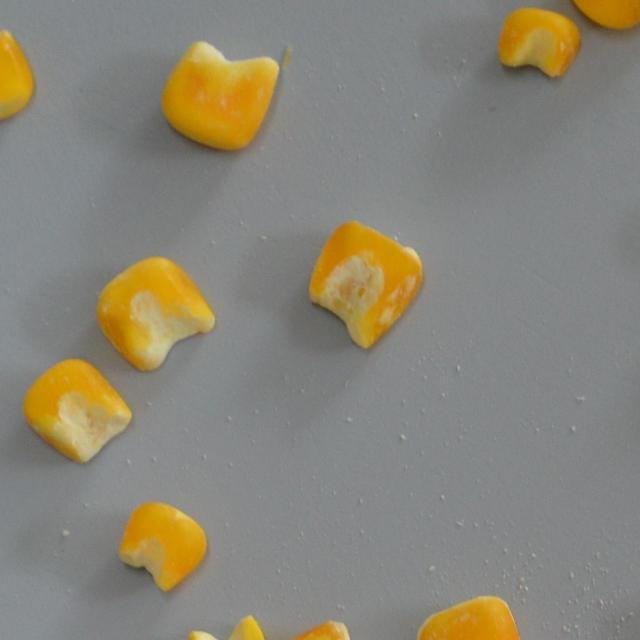no_canjicado: (0, 22, 40, 134)
no_desgerminado: (19, 355, 138, 470), (116, 500, 211, 596)
pelicula: (304, 215, 426, 358), (94, 251, 219, 375), (158, 33, 280, 158), (494, 6, 583, 81), (408, 594, 538, 640), (274, 616, 384, 640)
